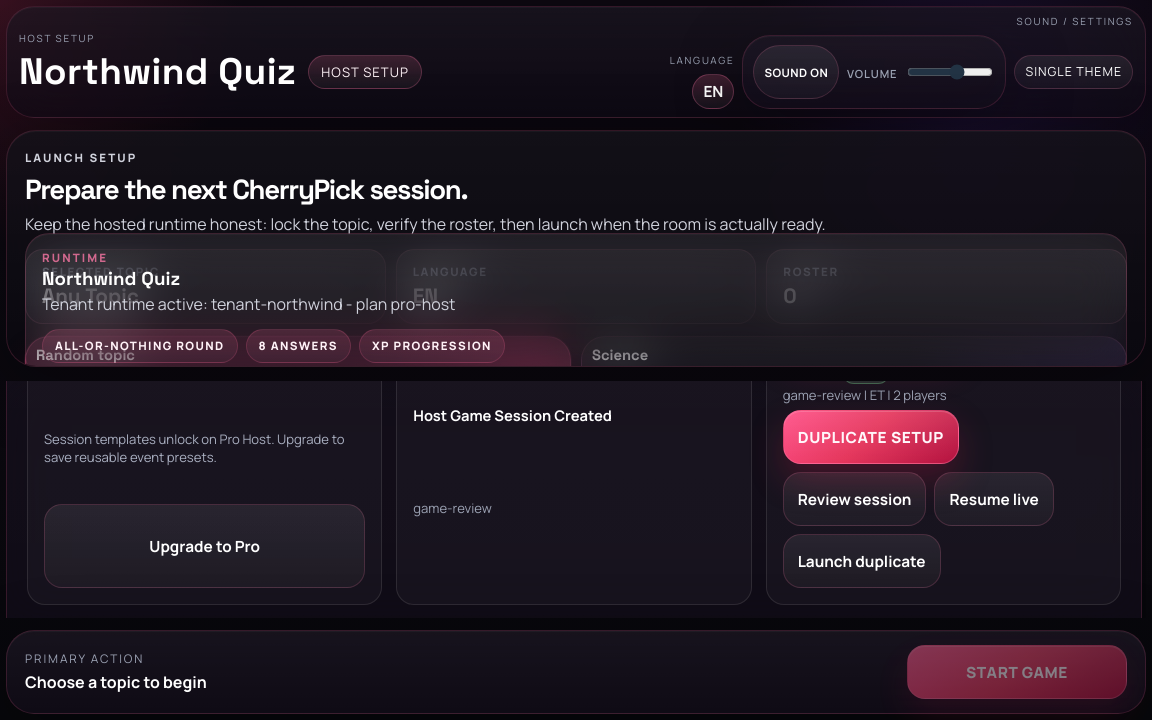
Test case: App tenant runtime integration › saves follow-up notes for a reviewed hosted session
The width and height of the screenshot is (1152, 720).
(page scrolled)
Click the button "Review session" at (855,499), box [783,472,926,526]
(page scrolled)
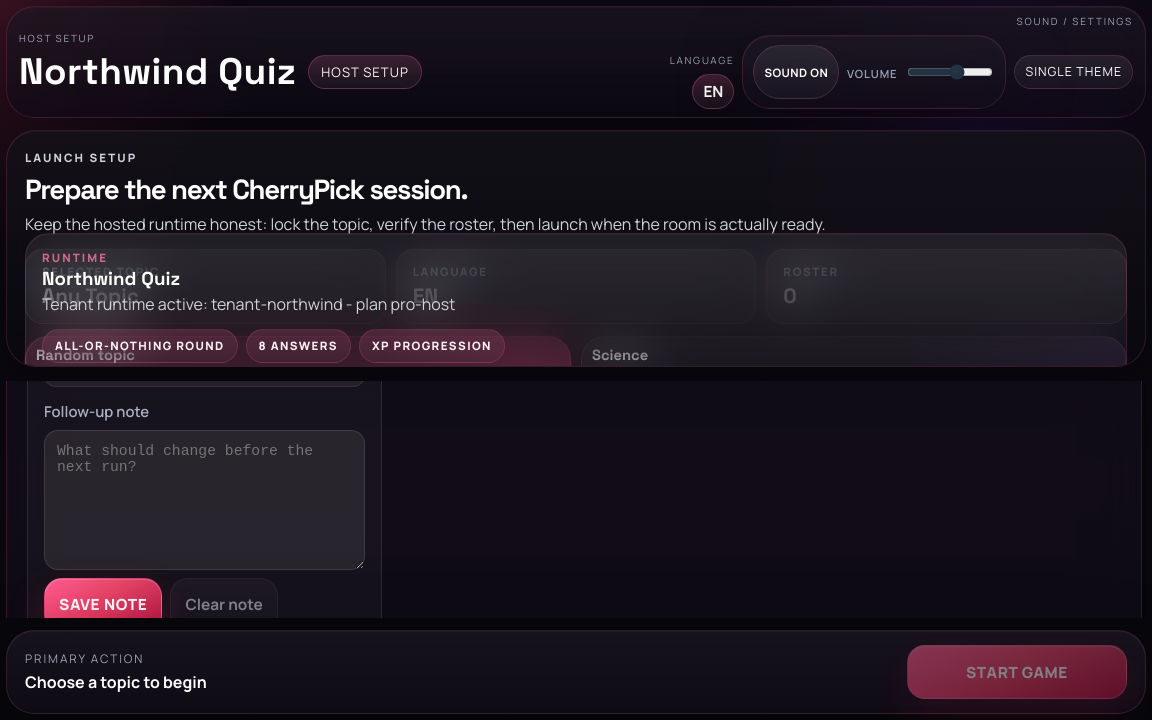
Type "Switch to shorter opening round next time." into the text box labelled "Follow-up note" at (205,500), box [44,430,365,570]
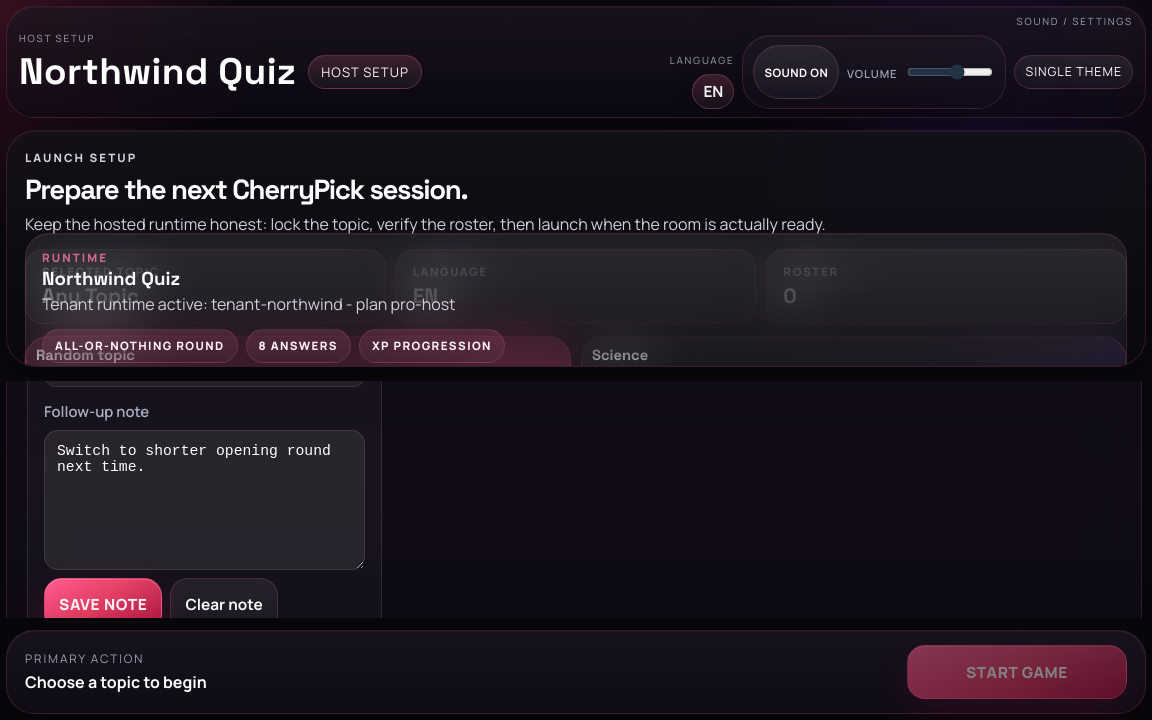
Click the button "Save note" at (103,605), box [44,578,162,632]
(page scrolled)
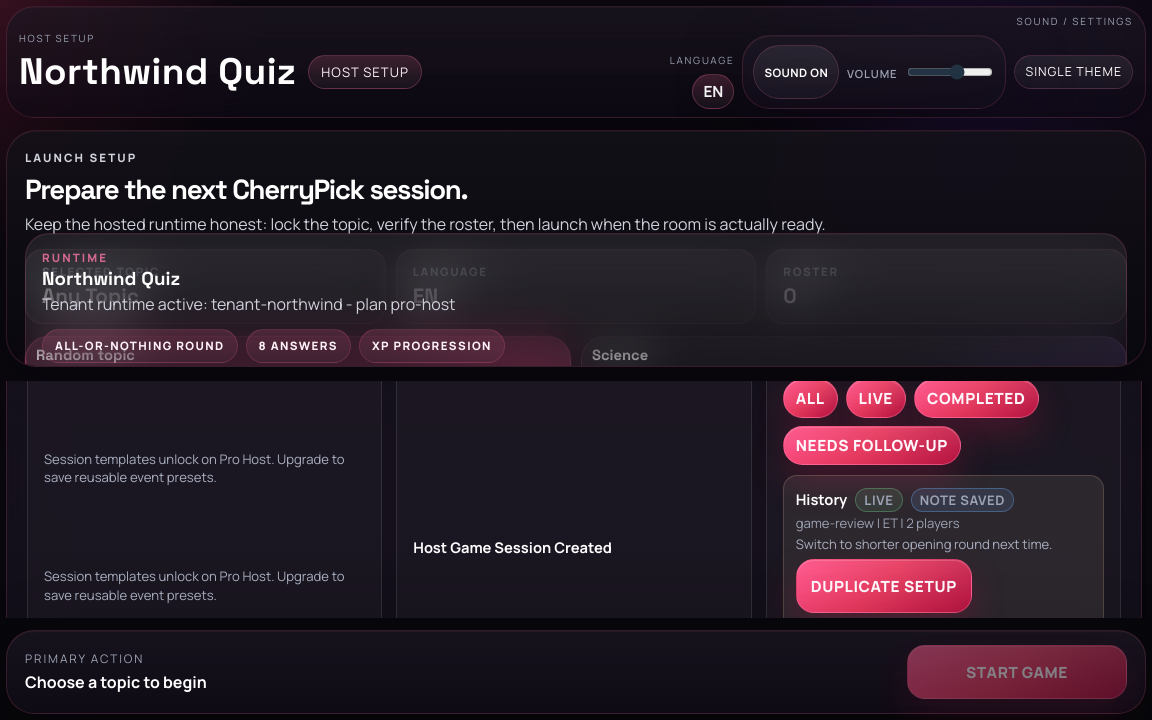
expect the text "Switch to shorter opening round next time." is shown: met, box [796,535,1091,553]
expect the text "Note saved" is shown: met, box [911,488,1014,512]
